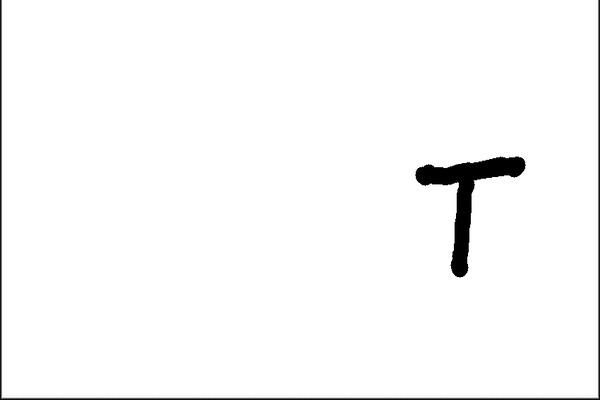T: (410, 153, 533, 278)
